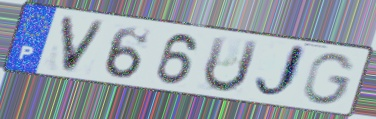6: (103, 24, 151, 80), (155, 31, 201, 87)
G: (301, 51, 358, 107)
J: (252, 42, 309, 102)
U: (200, 34, 262, 94)
V: (58, 13, 110, 76)
